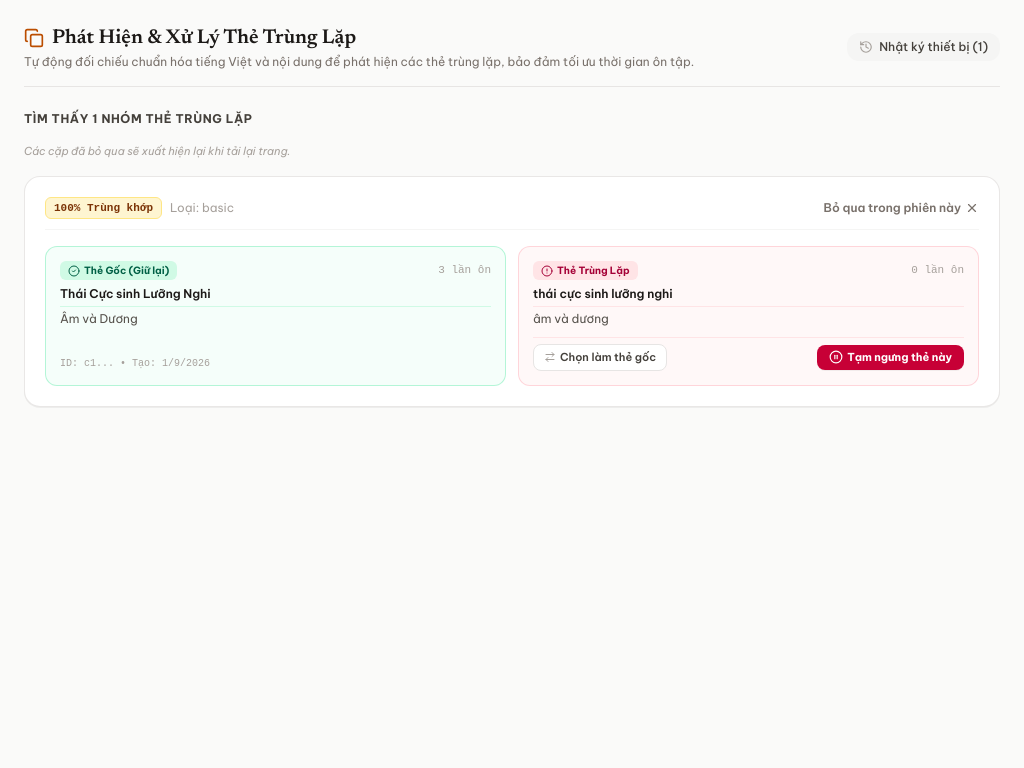
Phase F6.9: DuplicateDetectionDashboard Component › C. audit modal shows 'Nhật ký hoạt động trên thiết bị' and browser-local disclosure
The image size is (1024, 768).
expect the text "Phát Hiện & Xử Lý Thẻ Trùng Lặp" is shown: met, box top-left (52, 24), bottom-right (356, 52)
Click the button with test id "btn-view-audit-logs": (924, 47) top-left (847, 33), bottom-right (1000, 61)
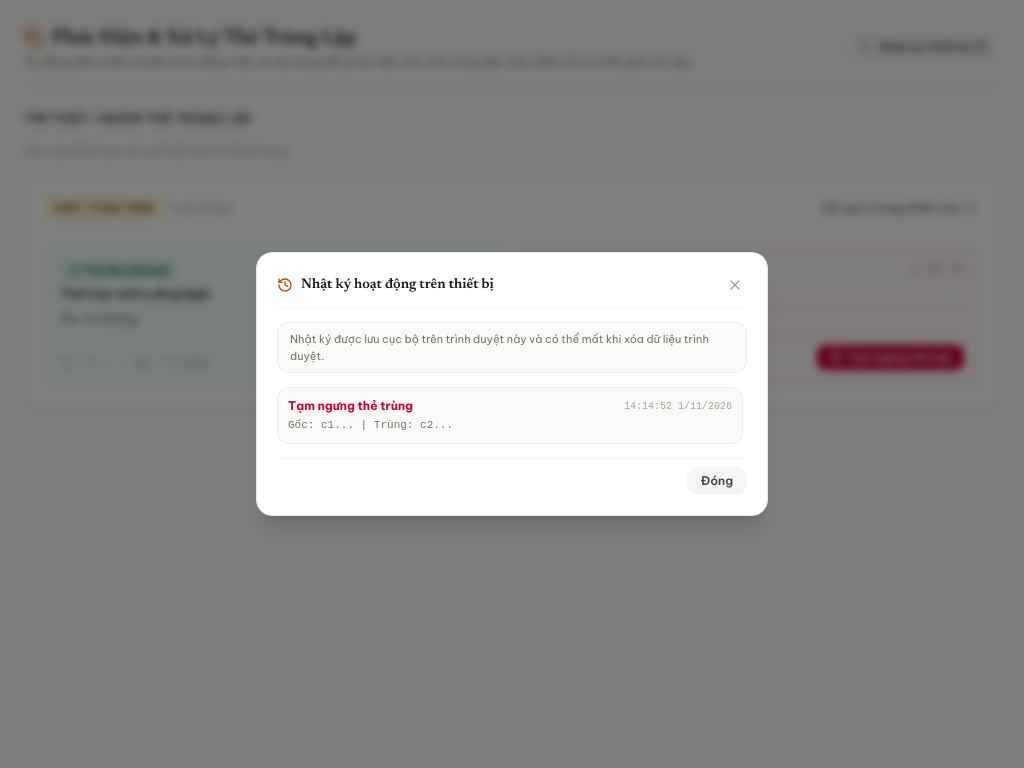
expect the text "Nhật ký hoạt động trên thiết bị" is shown: met, box top-left (301, 275), bottom-right (494, 295)
expect the text "lưu cục bộ trên trình duyệt" is shown: met, box top-left (290, 332), bottom-right (709, 363)
